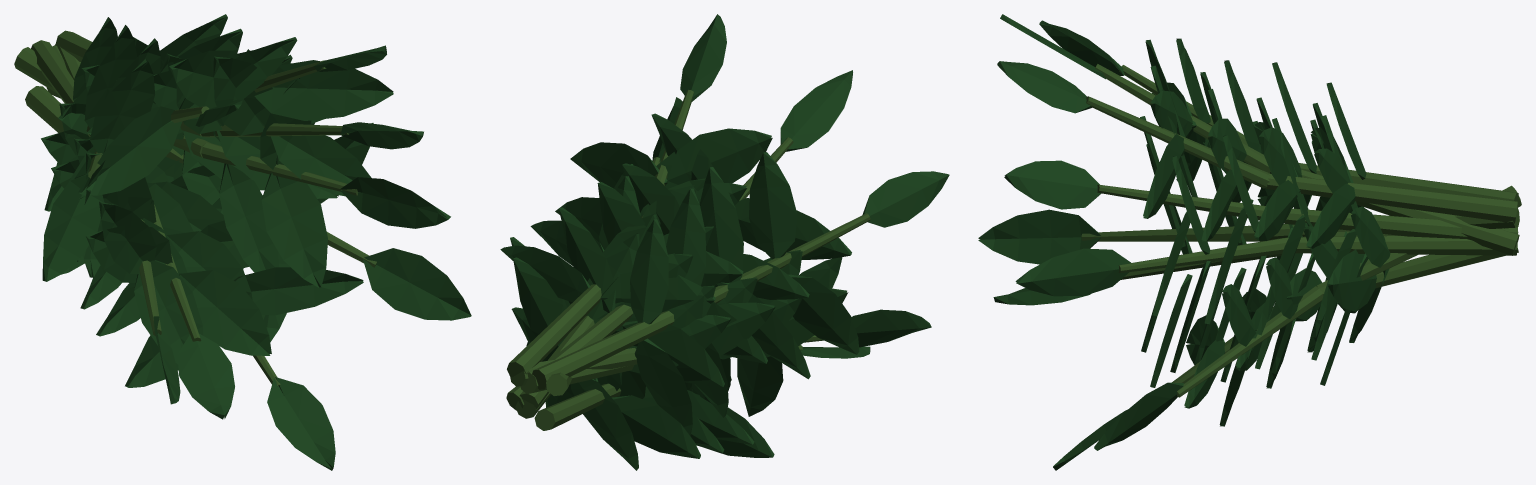
File: VD_ZZPlant_B.obj
The picture shows the model from 3 angles, left to right: view 1: azimuth 30°, elevation 25°; view 2: azimuth 150°, elevation 25°; view 3: azimuth 270°, elevation 25°; orthographic projection. The views are drawn at different scales.
Parts seen in each view (by area): view 1: VD_ZZPlant_B; view 2: VD_ZZPlant_B; view 3: VD_ZZPlant_B.
Boxes of the visible parts, x1=… form: VD_ZZPlant_B: x1=14, y1=14, x2=471, y2=470; VD_ZZPlant_B: x1=500, y1=14, x2=949, y2=470; VD_ZZPlant_B: x1=978, y1=14, x2=1521, y2=470.
Bounding box in the file's own units: 69.25 × 70.44 × 82.41.
